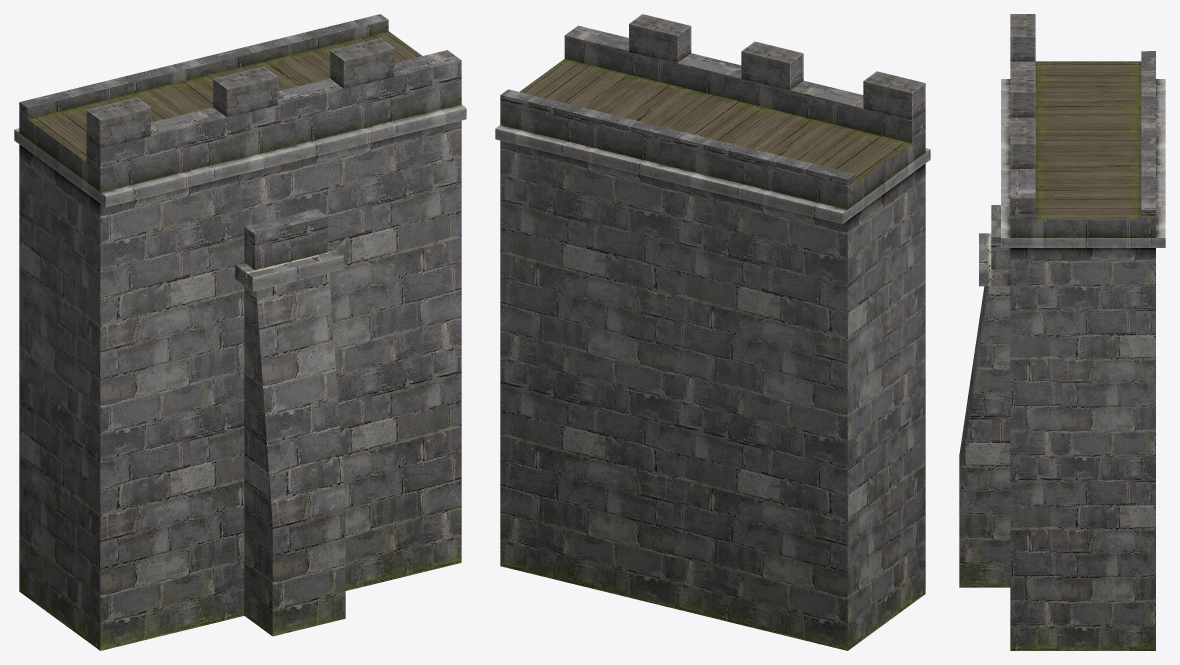
The model's file is CastleWall.FBX.
The picture shows the model from 3 angles, left to right: view 1: azimuth 30°, elevation 25°; view 2: azimuth 150°, elevation 25°; view 3: azimuth 270°, elevation 25°; orthographic projection. The views are drawn at different scales.
Parts seen in each view (by area): view 1: CastleWall; view 2: CastleWall; view 3: CastleWall.
Boxes of the visible parts, x1,y1,x2,y2 form: CastleWall: [14, 14, 466, 650]; CastleWall: [495, 14, 930, 650]; CastleWall: [959, 14, 1165, 650].
Bounding box in the file's own units: 1336 × 1876 × 733.
